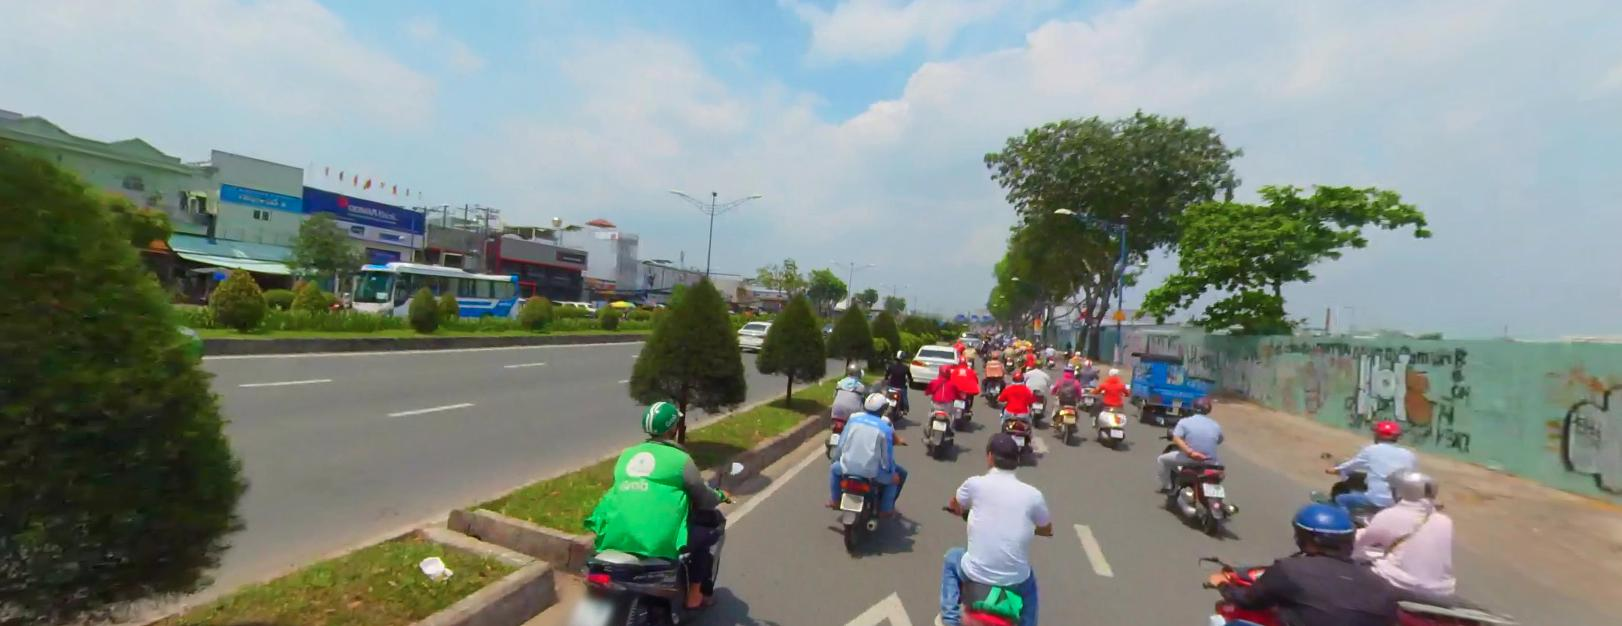Nguy hiem: (1112, 307, 1125, 319)
